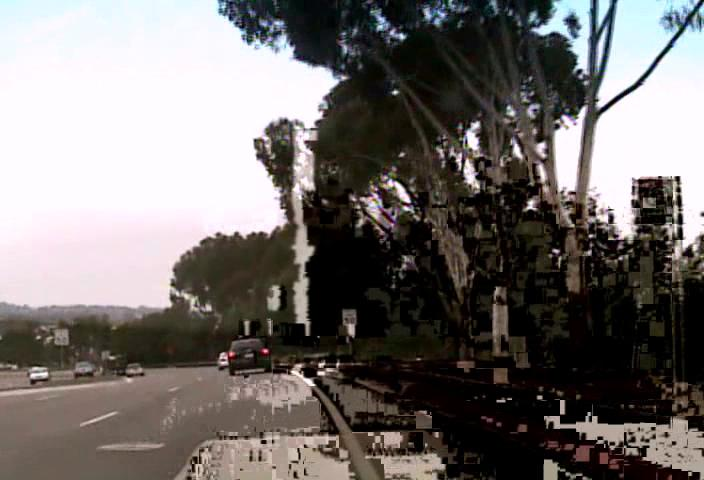speedLimitUrdbl: (53, 327, 69, 347)
